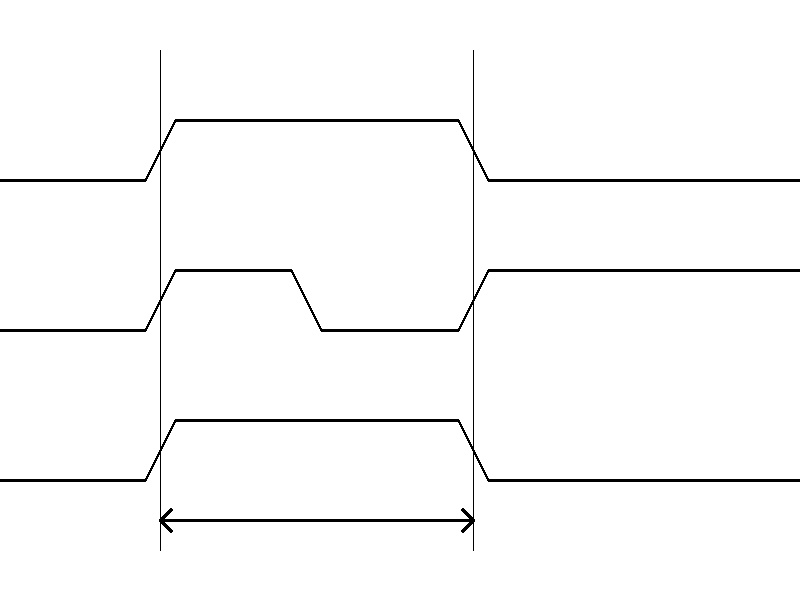double_arrow: (160, 505, 473, 535)
